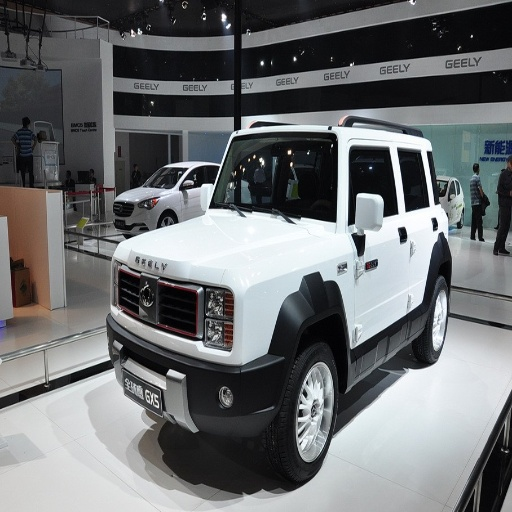front_bumper: (107, 262, 287, 443)
front_glass: (211, 137, 317, 210)
front_left_door: (353, 208, 406, 321)
